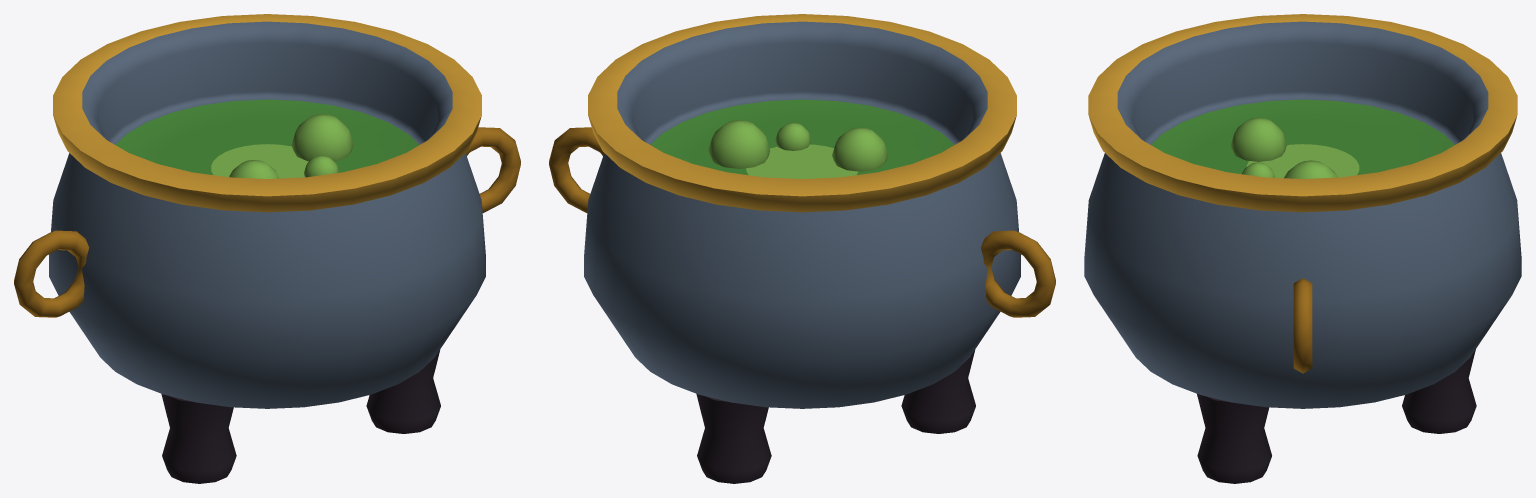
Rendered from Cauldron_08.glb.
3 renders of one model, left to right at view 1: azimuth 30°, elevation 25°; view 2: azimuth 150°, elevation 25°; view 3: azimuth 270°, elevation 25°, orthographic.
Visible parts, largest first — view 1: Cauldron_08; view 2: Cauldron_08; view 3: Cauldron_08.
Boxes of the visible parts, x1,y1,x2,y2 form: Cauldron_08: (14,14,520,483); Cauldron_08: (549,14,1055,483); Cauldron_08: (1084,14,1521,483).
Bounding box in the file's own units: 4.37 × 2.64 × 3.26.
